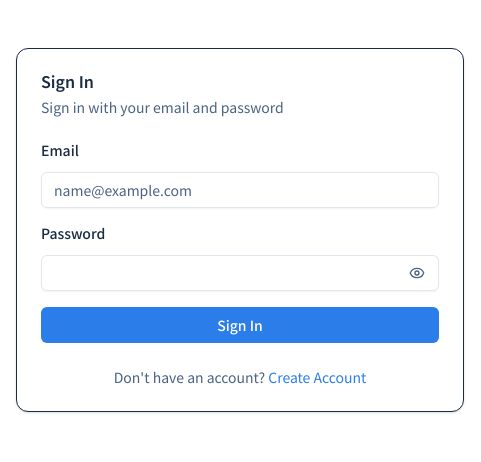
Test: SignInPage › should show validation errors for empty submission
What coordinates should you click on to do the following:
click the button "Sign In"
I would click on:
 (240, 325)
Its box is [41,307,439,343].
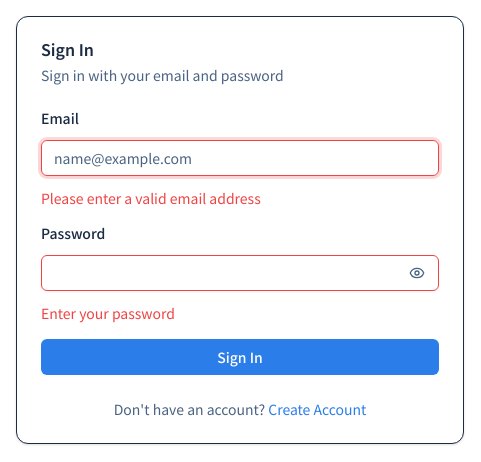
Check: the text "Please enter a valid email address" is shown, box [41,188,261,208]
